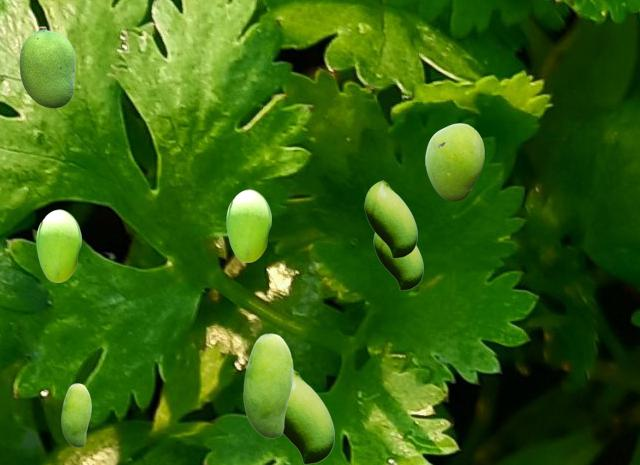green_mango: (243, 333, 292, 437), (283, 368, 333, 463), (425, 123, 483, 200), (19, 26, 74, 107), (364, 180, 416, 257), (226, 189, 270, 261), (36, 209, 80, 281), (373, 233, 422, 289), (61, 383, 90, 446)
